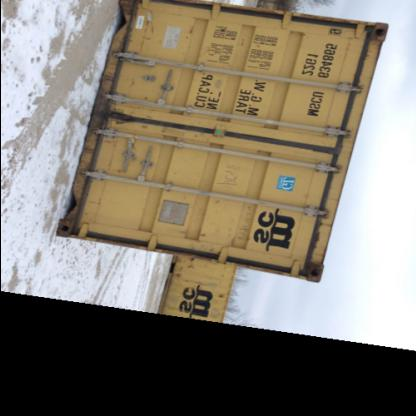Damage: (349, 16, 387, 88), (56, 170, 91, 242), (102, 25, 132, 107), (300, 216, 335, 281), (94, 100, 156, 127)
